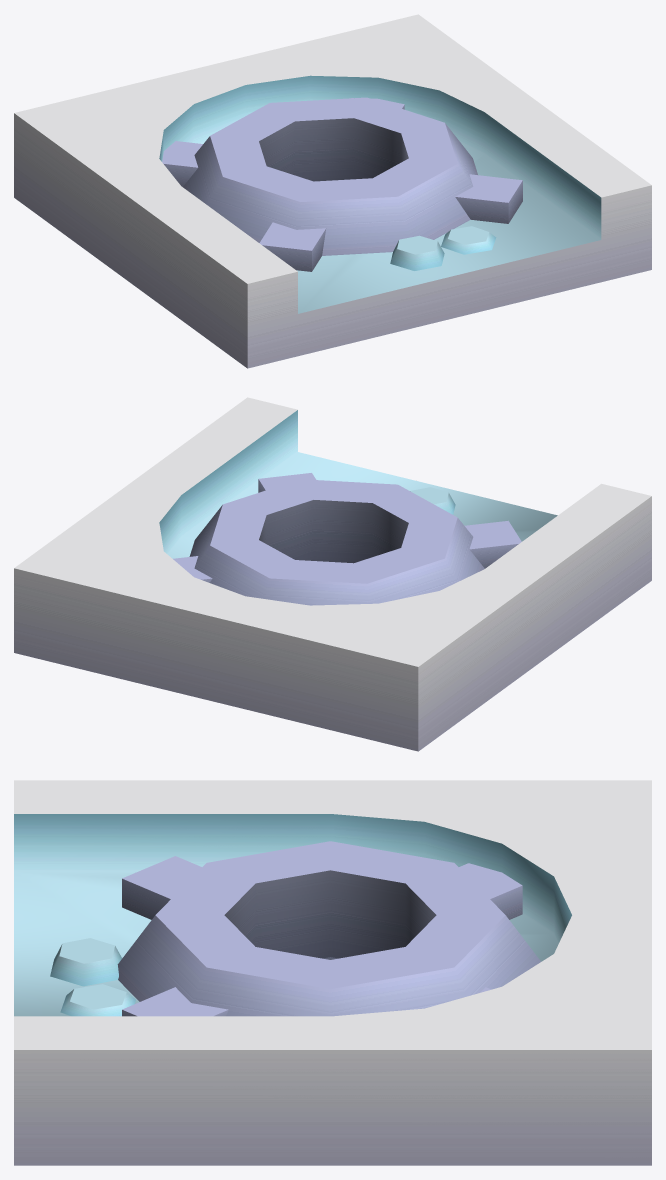
File: snow-tile-spawn-end-round.glb
3 views of the same model, one above another, from view 1: azimuth 30°, elevation 25°; view 2: azimuth 150°, elevation 25°; view 3: azimuth 270°, elevation 25° (orthographic). The views are drawn at different scales.
Parts seen in each view (by area): view 1: snow-tile-spawn-end-round; view 2: snow-tile-spawn-end-round; view 3: snow-tile-spawn-end-round.
Part boxes in pixels (box(x1,y1,x2,y2)): snow-tile-spawn-end-round: box(14, 14, 651, 368); snow-tile-spawn-end-round: box(14, 397, 651, 751); snow-tile-spawn-end-round: box(14, 780, 651, 1165).
Bounding box in the file's own units: 1 × 0.2 × 1.
Materials: 1 (1 with a texture image).
